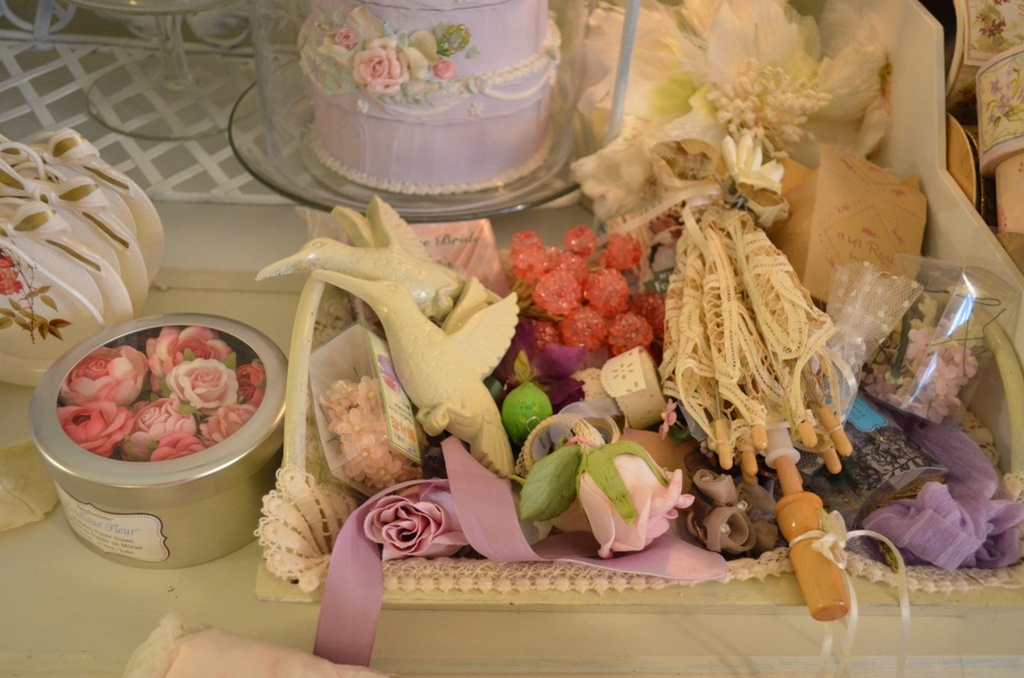cake: (293, 0, 560, 195)
